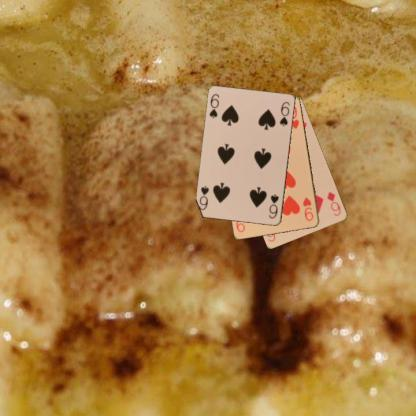6d: (324, 189, 342, 217)
6s: (266, 192, 281, 221), (207, 91, 221, 120)
9h: (300, 195, 315, 223)
